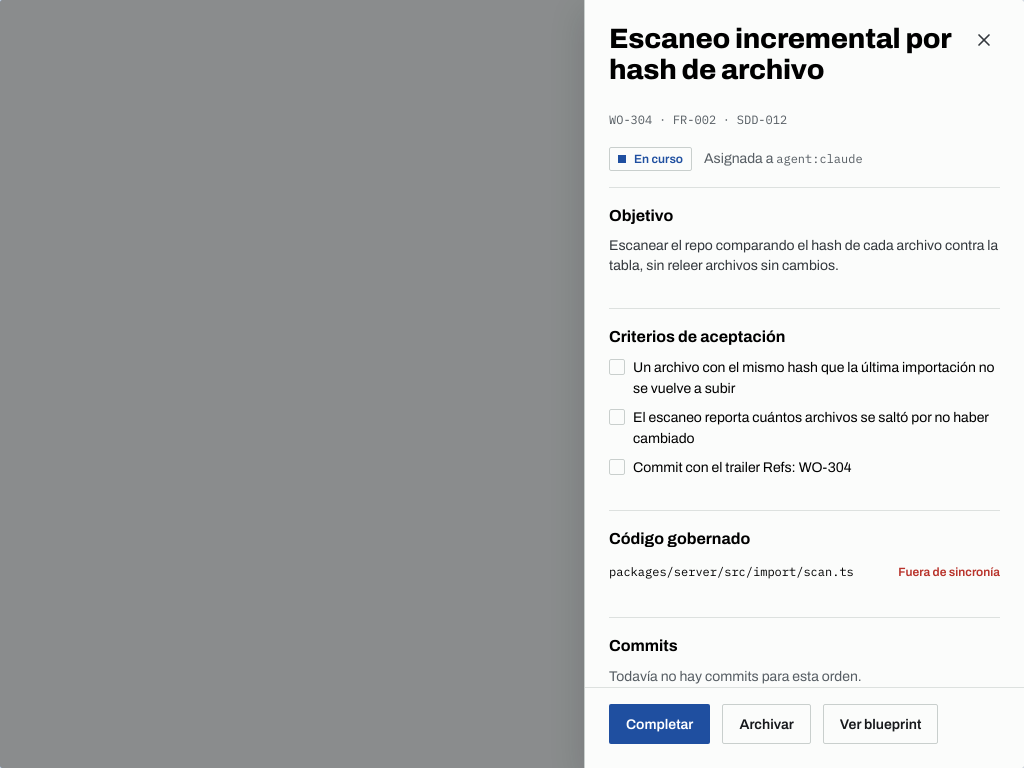
Test: OrderDrawer › in_progress: "Completar" validates the SHA and, once valid, marks the order done
Click the button "Completar". click: click(660, 724)
box: [609,704,710,744]
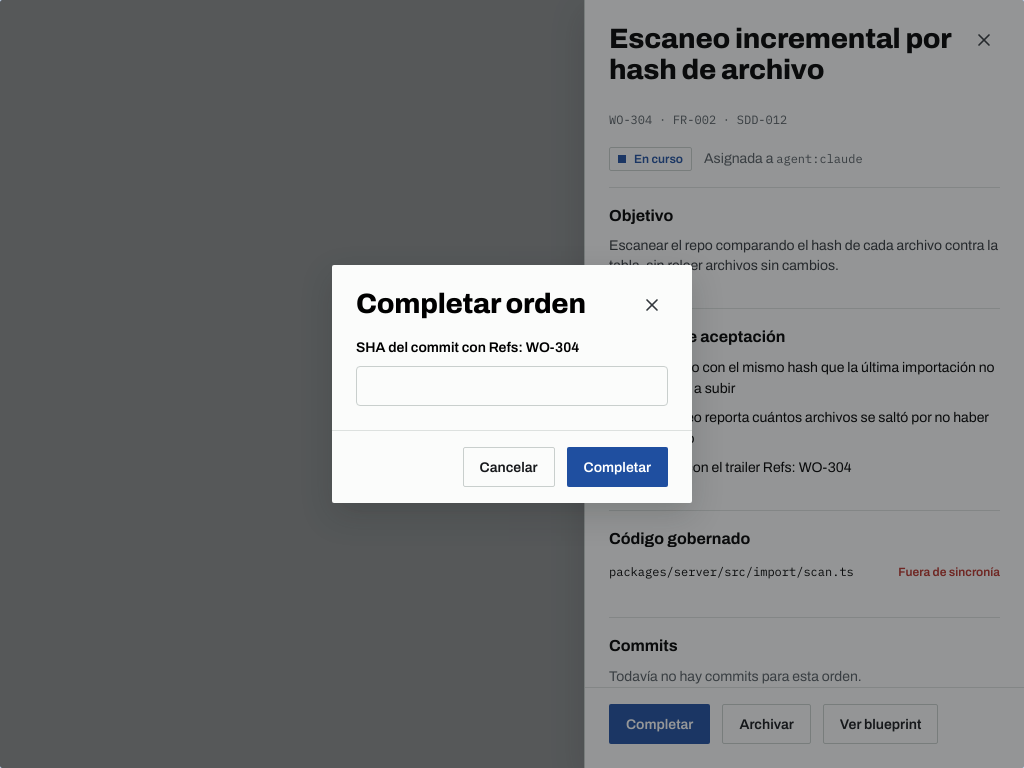
Click the button "Completar". click: click(617, 467)
box: [566,447,668,487]
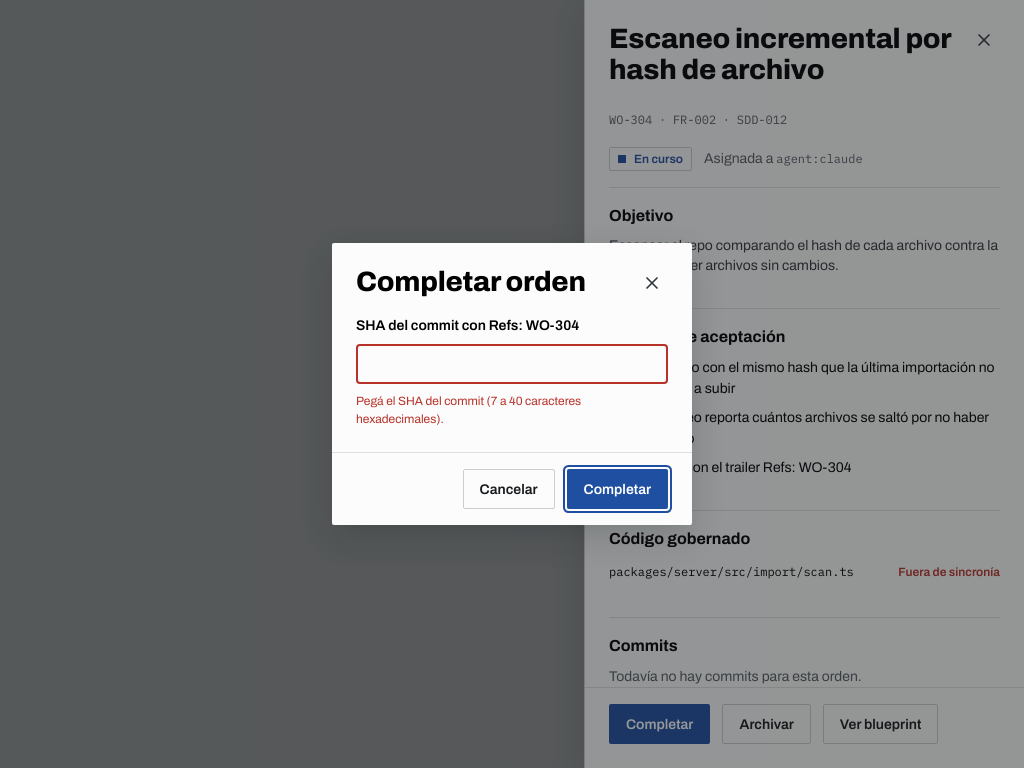
Expected: the message shows "Pegá el SHA del commit", [356,394,581,426]
Type "deadbee" into the field labelled "SHA del commit con Refs: WO-304". click: (512, 364)
box: [356,344,668,384]
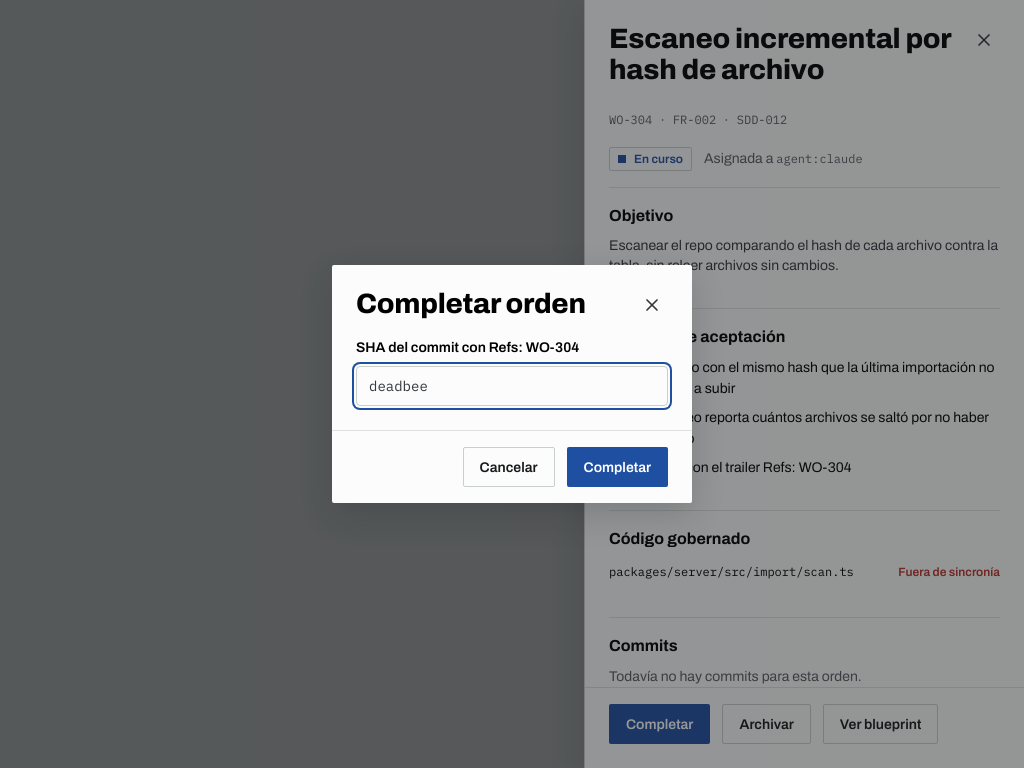
Click the button "Completar". click: click(617, 467)
box: [566,447,668,487]
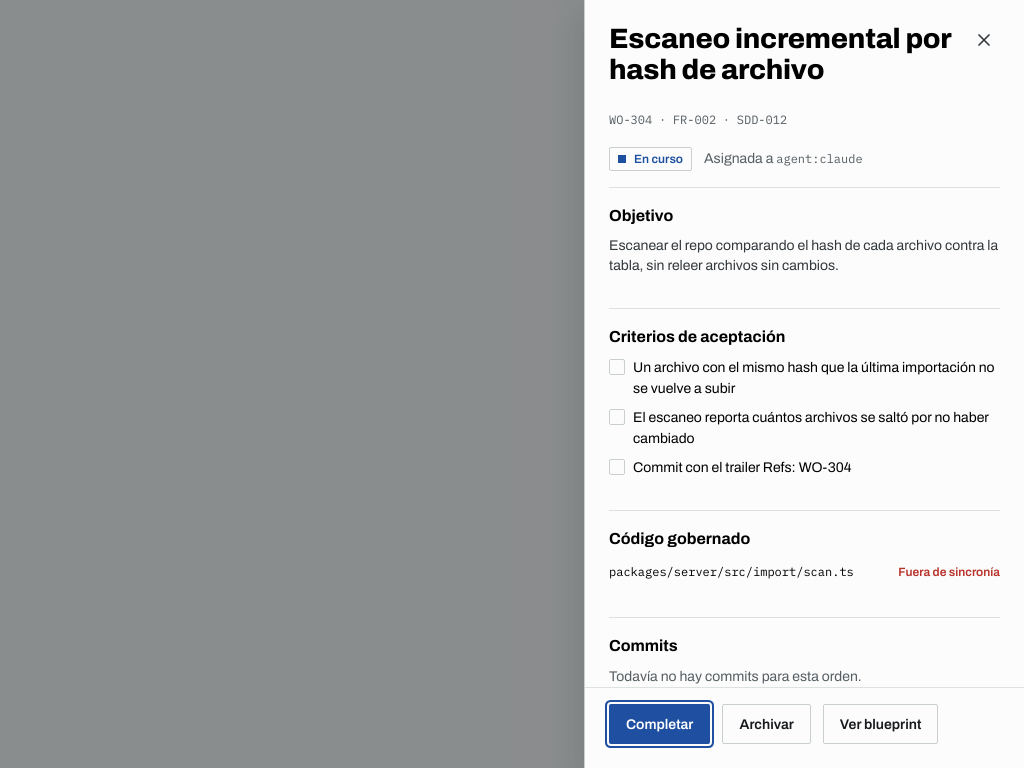
Expected: the message reads "Orden completada", [865,712,984,728]
